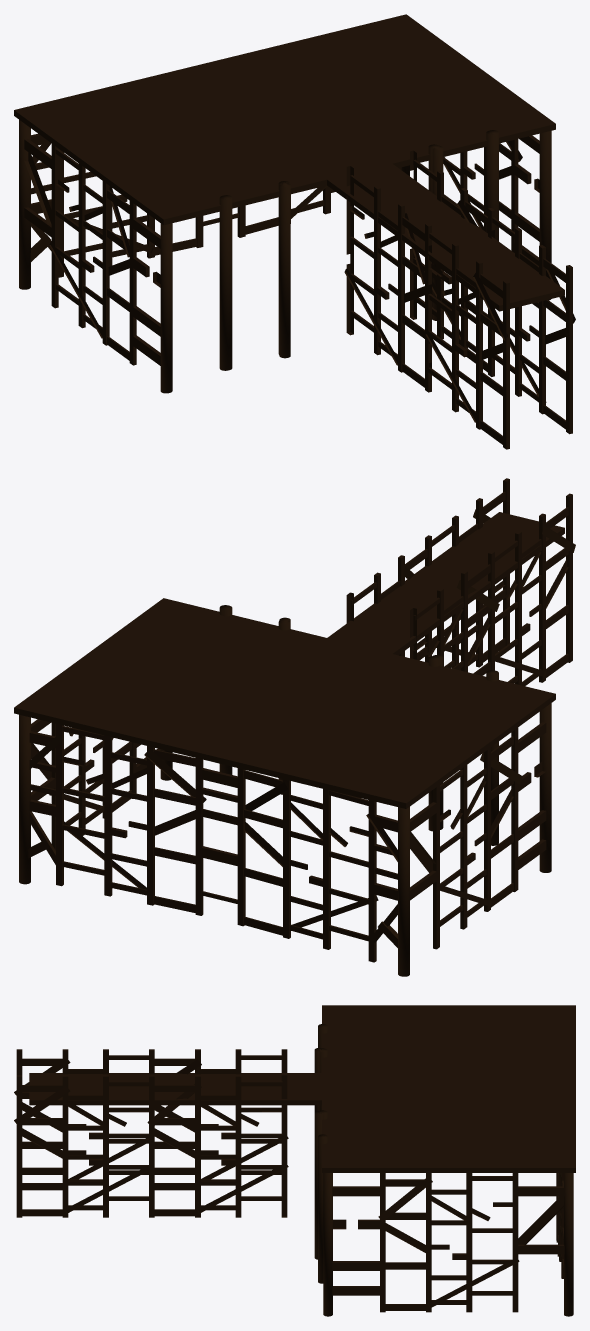
Rendered from chao.fbx.
3 views of the same model, one above another, from view 1: azimuth 30°, elevation 25°; view 2: azimuth 150°, elevation 25°; view 3: azimuth 270°, elevation 25° (orthographic). The views are drawn at different scales.
Visible parts, largest first — view 1: Cube; view 2: Cube; view 3: Cube.
Part boxes in pixels (left/top/right/bottom): Cube: left=14, top=14, right=575, bottom=449; Cube: left=14, top=478, right=575, bottom=976; Cube: left=14, top=1005, right=575, bottom=1316.
Bounding box in the file's own units: 53289 × 26389 × 77755.
